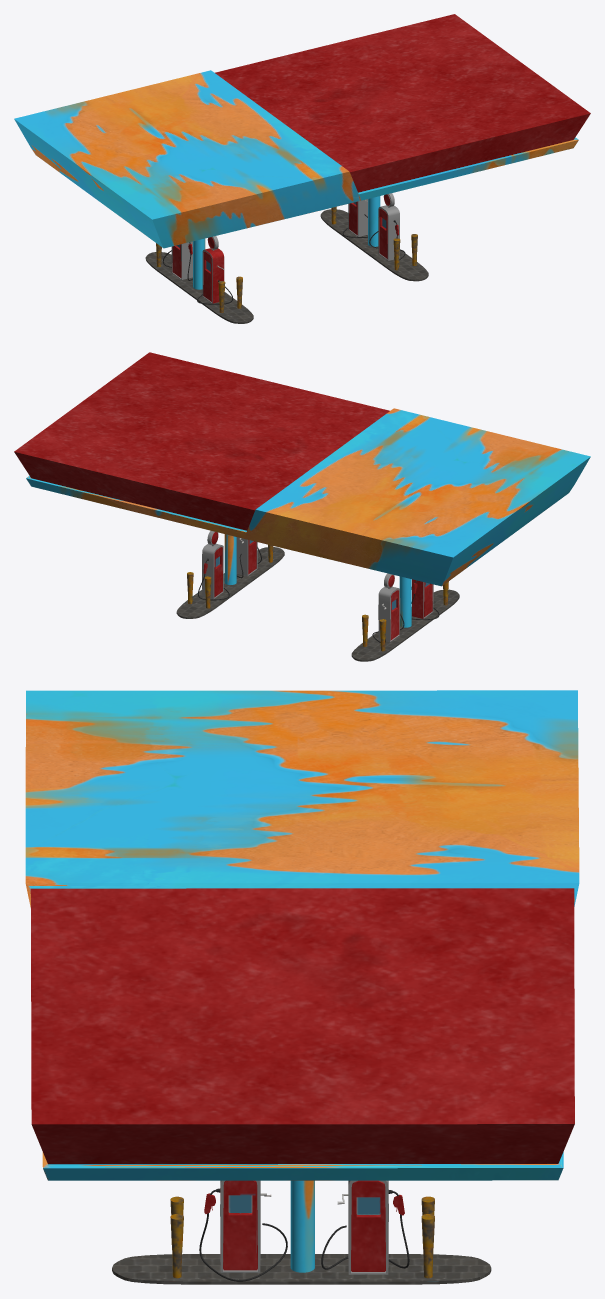
The model's file is gas.fbx.
3 renders of one model, top to bottom at view 1: azimuth 30°, elevation 25°; view 2: azimuth 150°, elevation 25°; view 3: azimuth 270°, elevation 25°, orthographic. The views are drawn at different scales.
Visible parts, largest first — view 1: Cylinder.001; view 2: Cylinder.001; view 3: Cylinder.001.
Part boxes in pixels (box(x1,y1,x2,y2)): Cylinder.001: box(14, 14, 590, 323); Cylinder.001: box(14, 352, 590, 661); Cylinder.001: box(25, 690, 579, 1284).
Size of the model in its own units: 3273 by 1051 by 1783.
